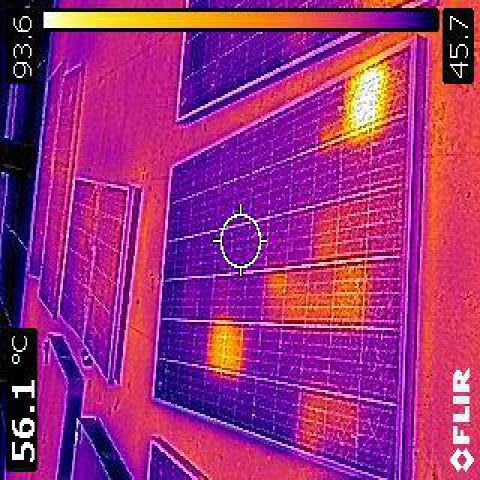fault: (346, 75, 372, 128), (206, 322, 234, 366)
